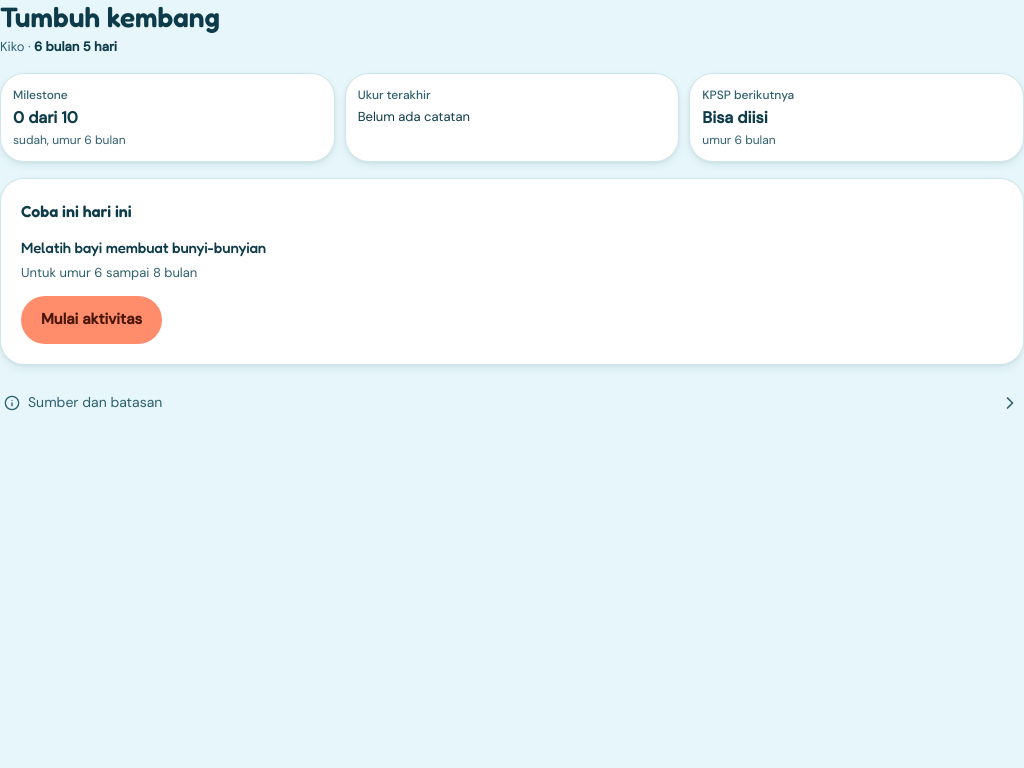
Test: Hub Tumbuh kembang › disclaimer jadi satu baris yang membuka lembar
Click the button "Sumber dan batasan": x=95, y=402 left=0, top=380, right=1023, bottom=424
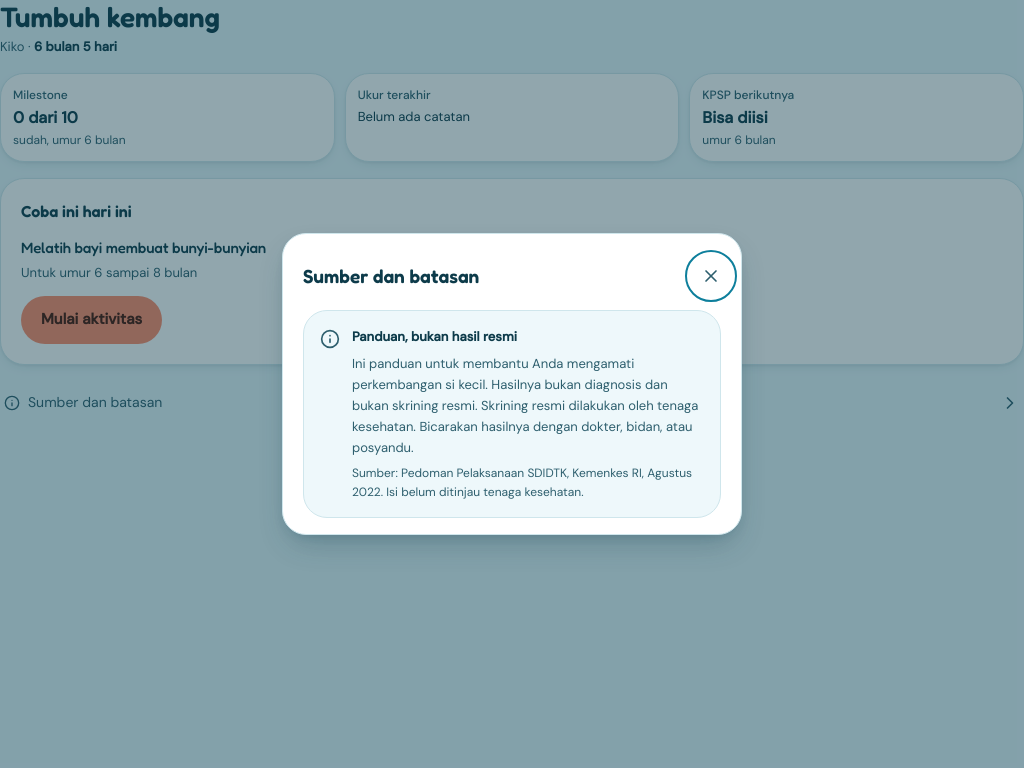
Now the dialog "Sumber dan batasan" is shown, box left=282, top=232, right=742, bottom=536
Now the element named "Panduan, bukan hasil resmi" is shown, box left=303, top=310, right=721, bottom=518
